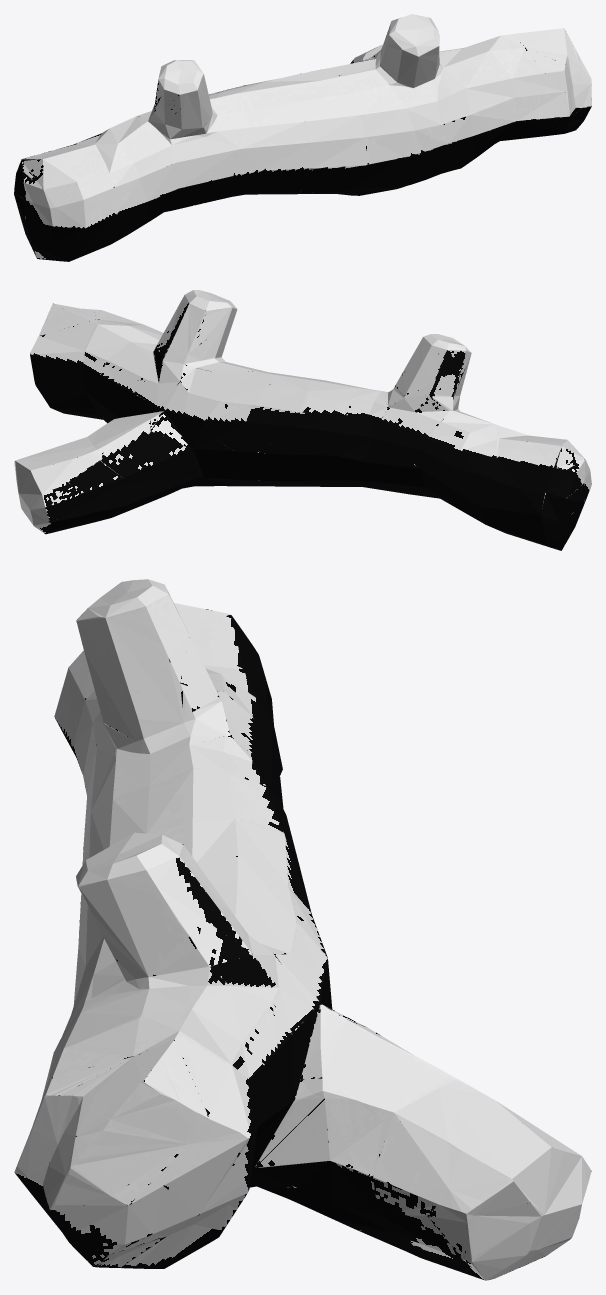
3 views of the same model, one above another, from view 1: azimuth 30°, elevation 25°; view 2: azimuth 150°, elevation 25°; view 3: azimuth 270°, elevation 25° (orthographic). The views are drawn at different scales.
Parts seen in each view (by area): view 1: OBJ124; view 2: OBJ124; view 3: OBJ124.
Part boxes in pixels (x1,y1,x2,y2): OBJ124: [14, 14, 591, 261]; OBJ124: [14, 290, 591, 550]; OBJ124: [14, 579, 591, 1280].
Size of the model in its own units: 0.317 by 0.1081 by 0.1459.
1 material, 1 textured.
